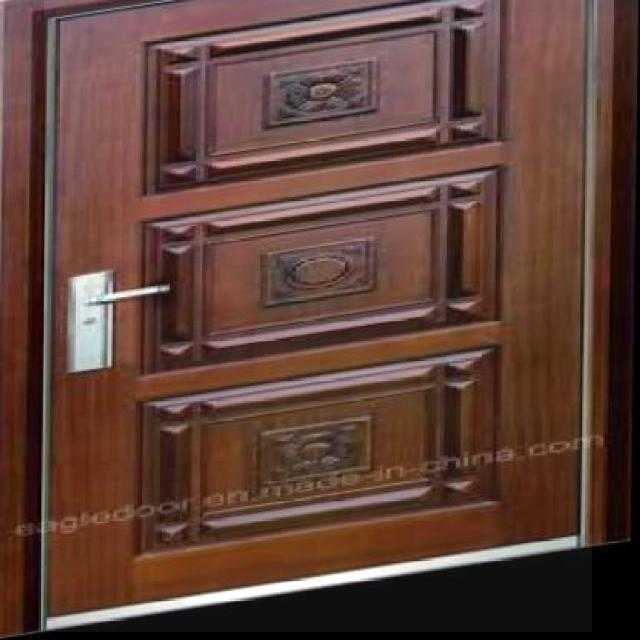door: (45, 0, 592, 632)
